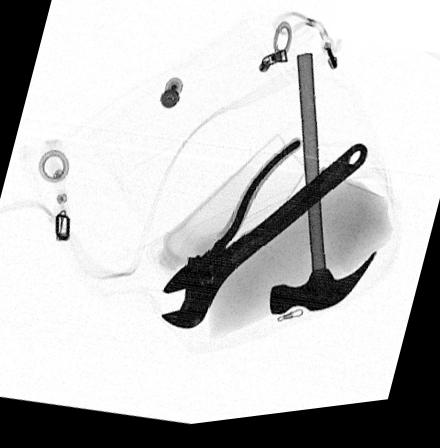Hammer: (270, 58, 377, 320)
Pliers: (162, 144, 331, 296)
Wrench: (160, 150, 368, 335)
